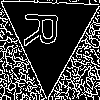R: (24, 10, 66, 48)
